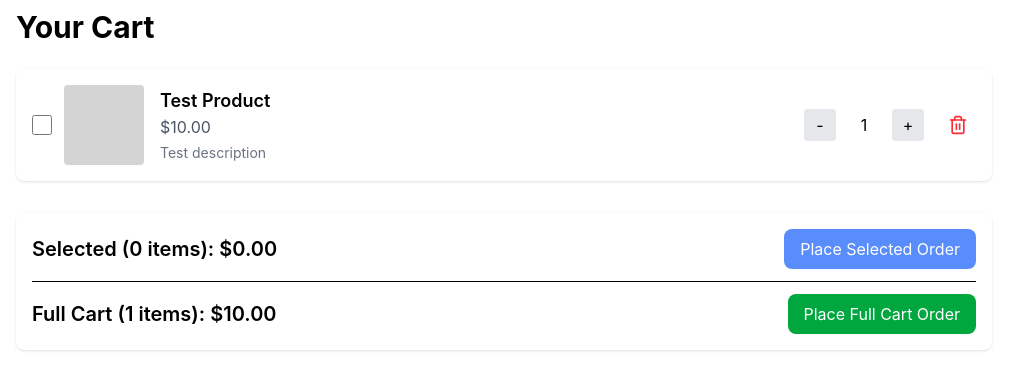
removes item from cart when trash icon is clicked
Expected: the heading "Test Product" is shown, [160,90,270,111]
Click trash icon to remove the item
Click the button named "remove item" at point(958, 125), box [940,107,976,143]
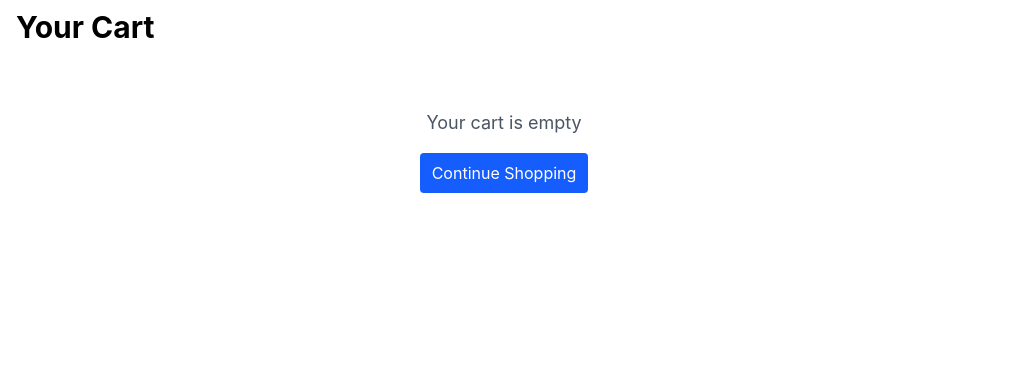
Expected: the heading "Test Product" is gone
